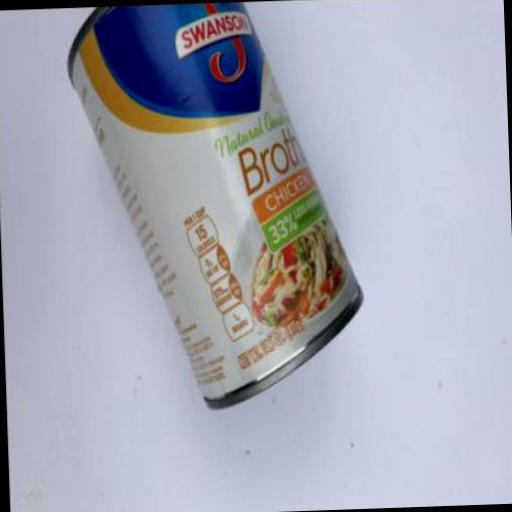metal: (65, 0, 367, 411)
